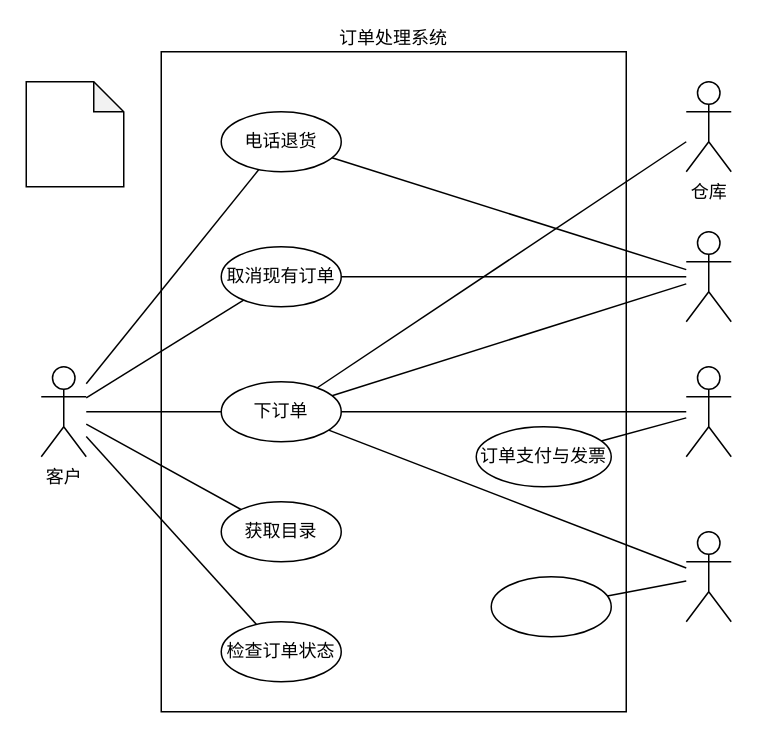
This 771x738 diagram has some shape labels left out. Here are the shapes that lost their labels. From the top down, the box of each, then its label:
(25, 80, 124, 187): 改进版
(685, 230, 731, 322): 客户代表
(685, 365, 731, 457): 会计系统
(685, 530, 731, 622): 运输公司
(490, 575, 611, 637): 订单配送
